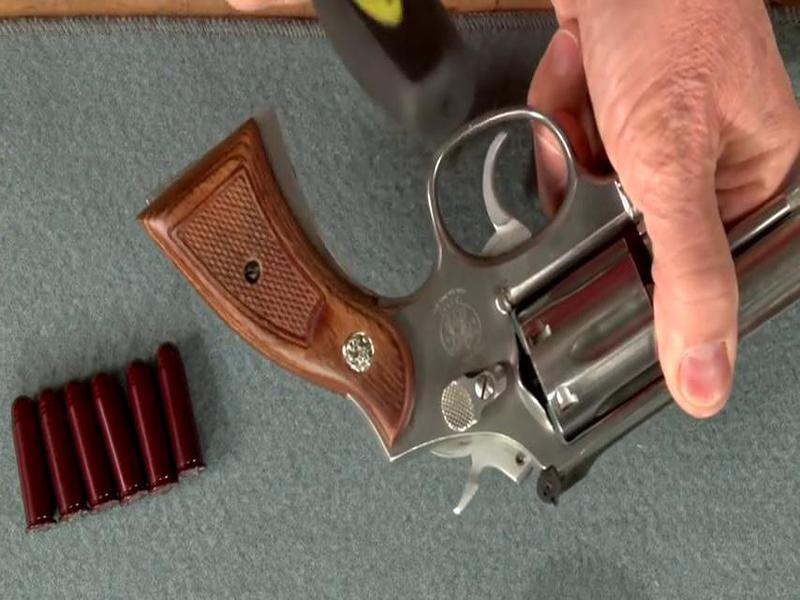Revolver: (98, 81, 796, 513)
